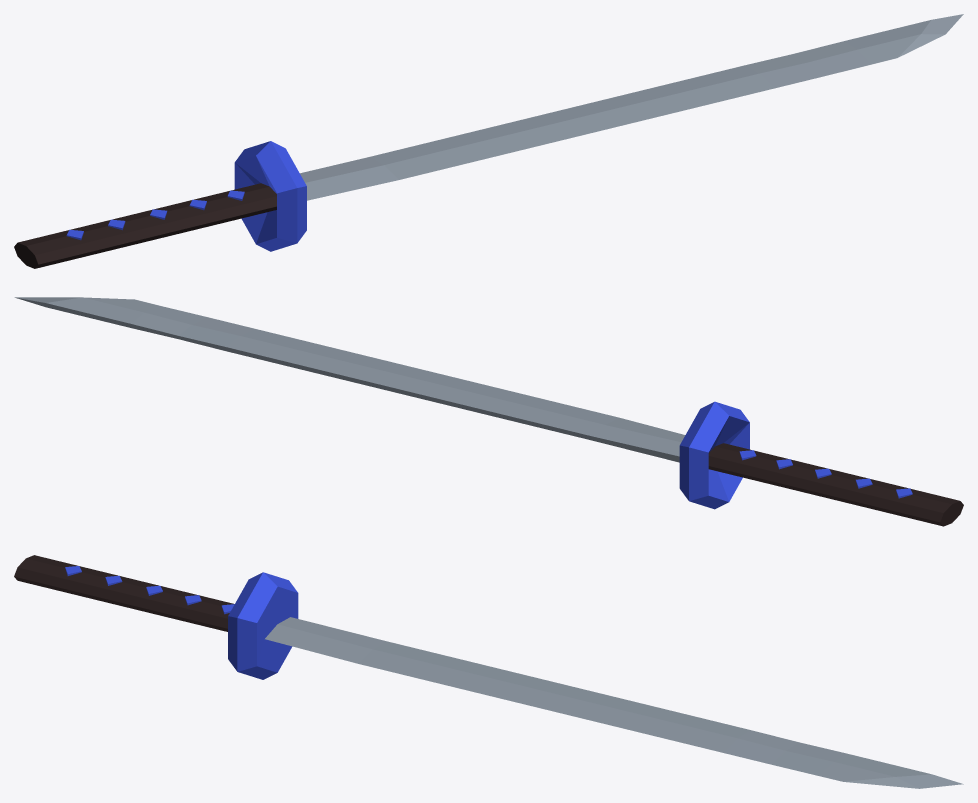
File: epee daux mains.fbx
The picture shows the model from 3 angles, top to bottom: view 1: azimuth 30°, elevation 25°; view 2: azimuth 150°, elevation 25°; view 3: azimuth 330°, elevation 25°; orthographic projection. The views are drawn at different scales.
Visible parts, largest first — view 1: Epee deux mains; view 2: Epee deux mains; view 3: Epee deux mains.
Part boxes in pixels (bbox=[...]): Epee deux mains: bbox=[14, 14, 963, 268]; Epee deux mains: bbox=[14, 297, 963, 526]; Epee deux mains: bbox=[14, 555, 963, 788].
Bounding box in the file's own units: 150 × 16.7 × 14.46.
